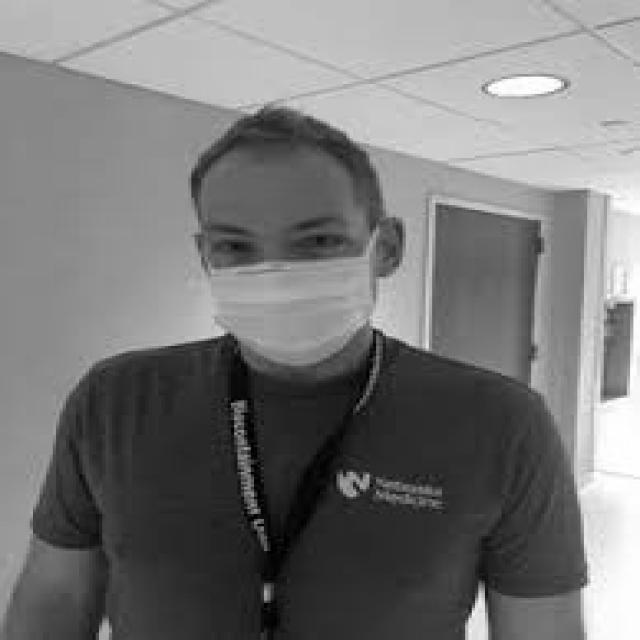with_mask: (201, 232, 376, 368)
